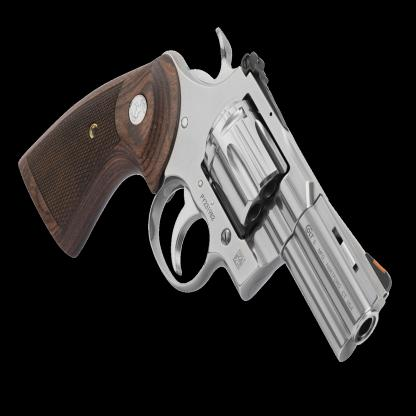handgun: (21, 18, 392, 366)
